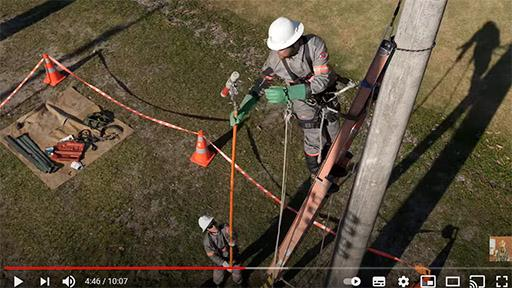Vara_Manobra: (228, 106, 238, 266)
